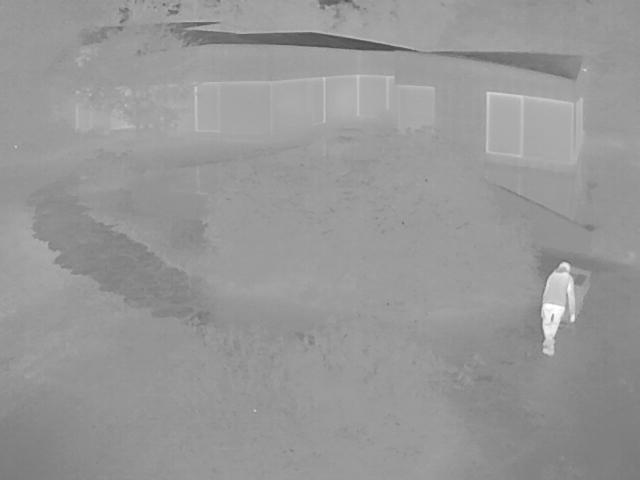person: (542, 260, 576, 357)
